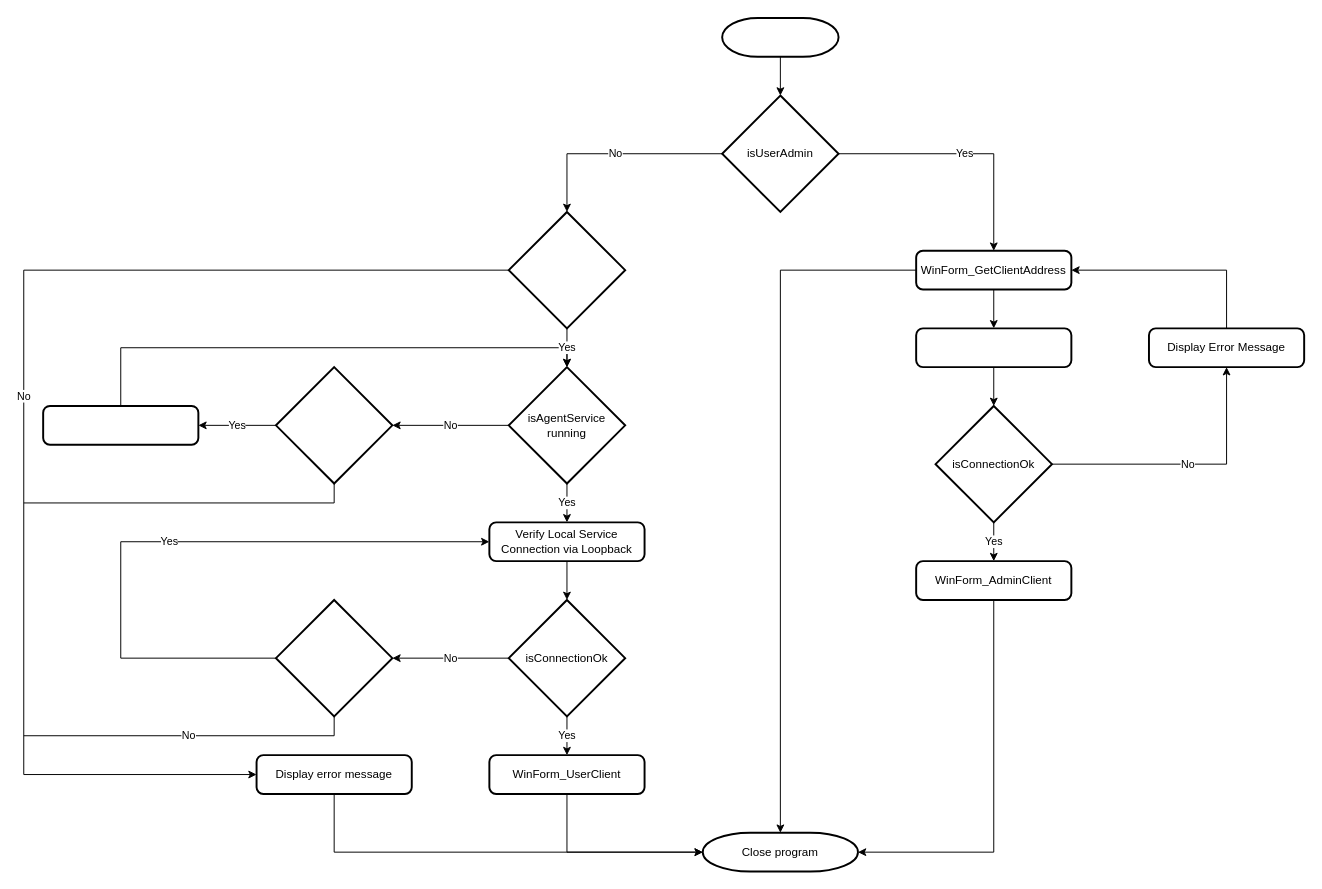
Image size: 1322x889. Some labels were removed from this diagram. Here are the shapes that lost their labels. From the top down, the centre of each, then its label:
At (x=780, y=36): "Launch".
At (x=566, y=269): "isAgentService Installed".
At (x=993, y=347): "Verify Network AgentService Connection".
At (x=120, y=424): "Attempt AgentService start".
At (x=334, y=425): "AgentService start attempt < 3".
At (x=334, y=657): "AgentService connection attempt < 3".
